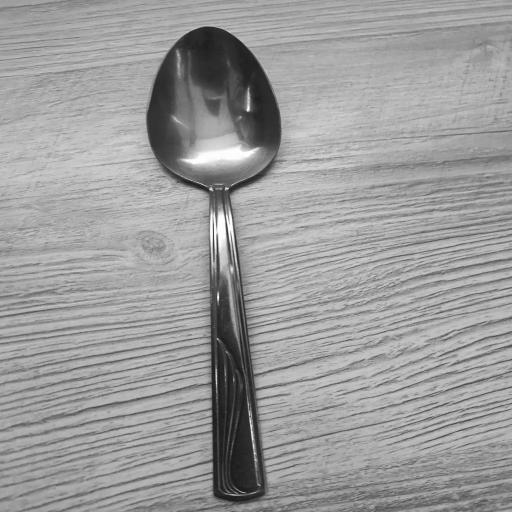spoon: (148, 24, 278, 499)
